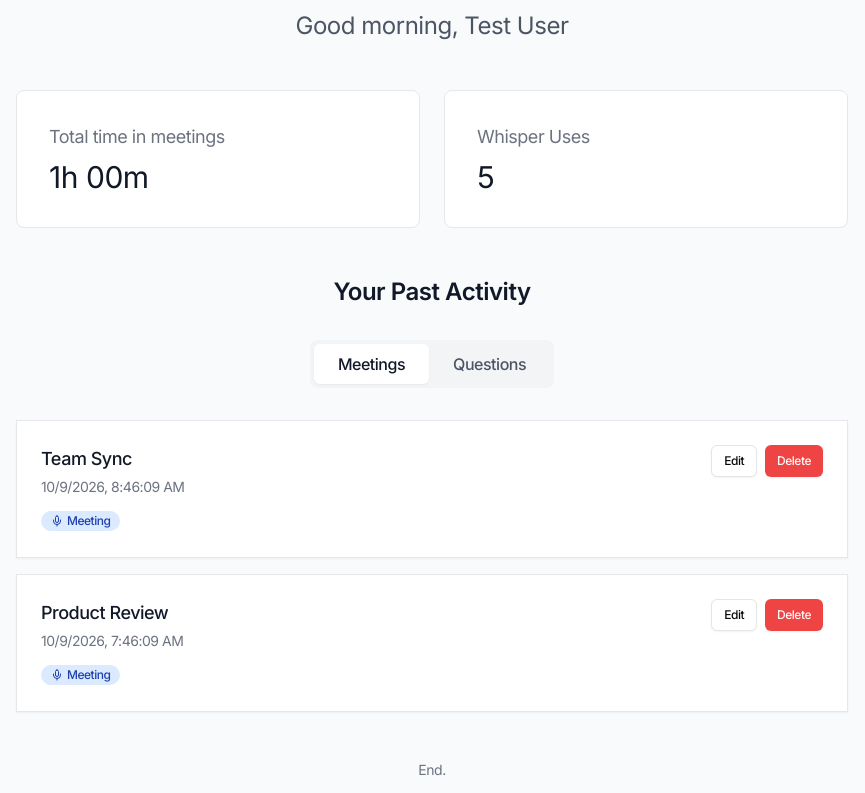
Scenario: ActivityPage › switches to questions tab
Expected: the text "Team Sync" is shown, top-left (41, 448), bottom-right (132, 469)
Click the button "Questions" at coordinates (490, 364), box top-left (429, 344), bottom-right (550, 384)
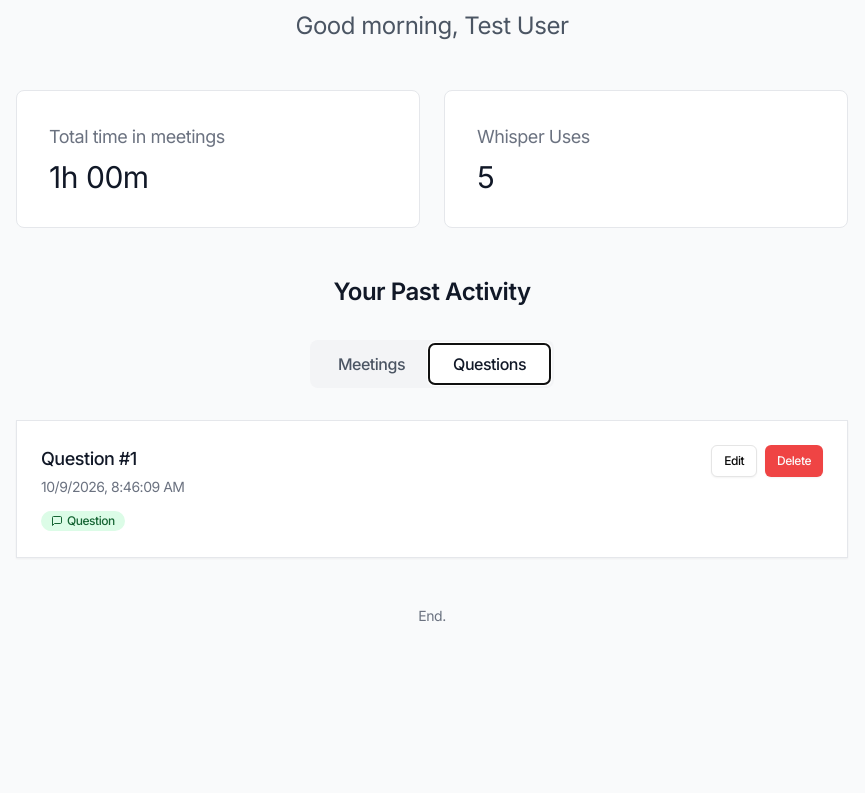
Expected: the text "Question #1" is shown, top-left (41, 448), bottom-right (137, 469)
Expected: the link "Team Sync" is gone
